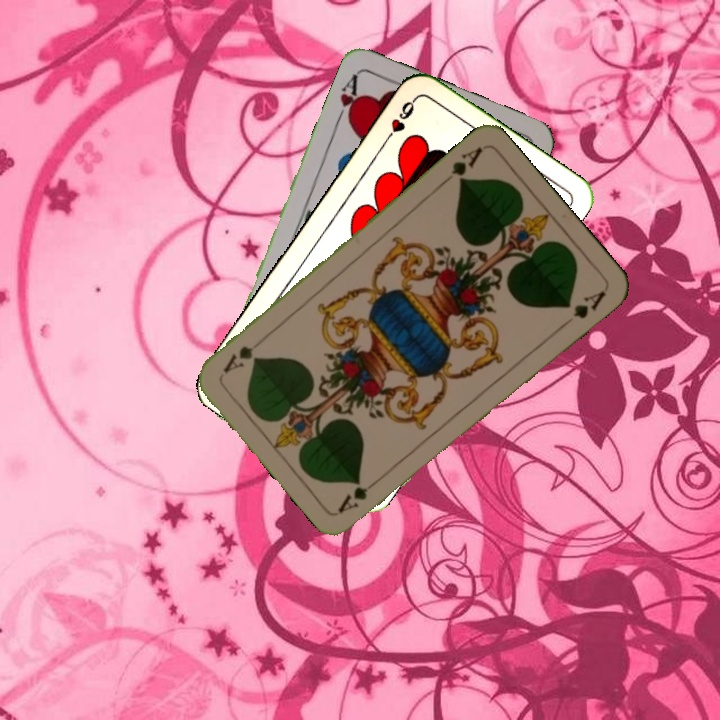GA: (437, 142, 486, 188), (334, 473, 385, 516)
H9: (380, 94, 419, 146)
HA: (331, 70, 364, 127)
